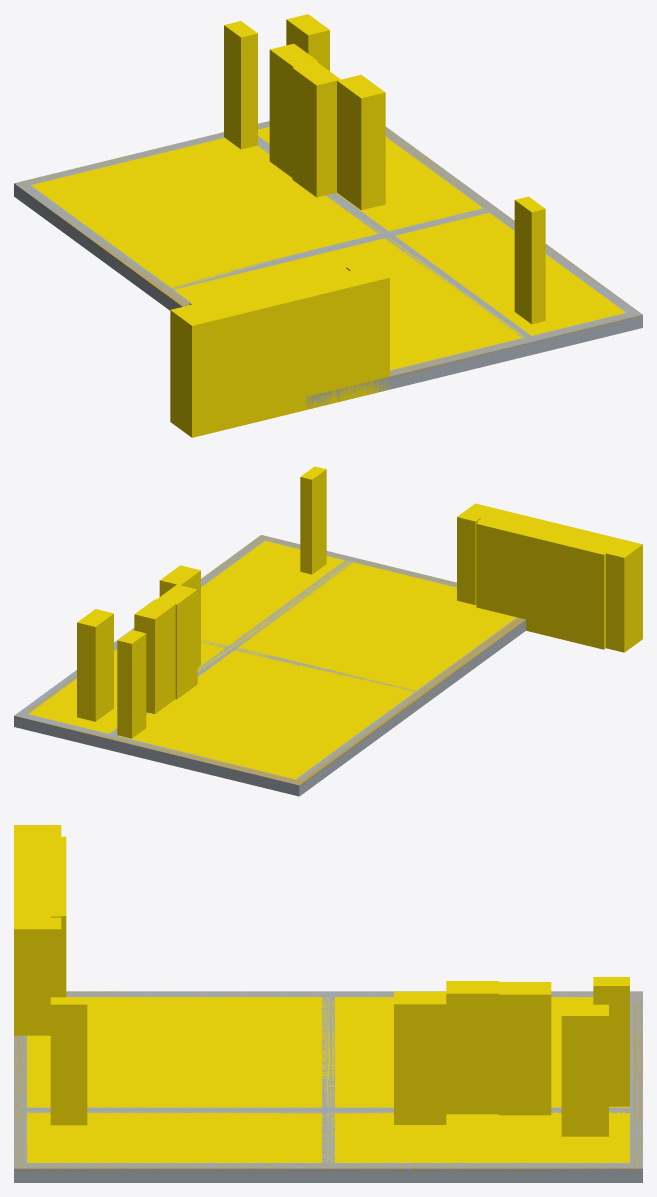
File: bảng hiệu xinhan bạt 2 mặt 80 x 120.obj
The picture shows the model from 3 angles, top to bottom: view 1: azimuth 30°, elevation 25°; view 2: azimuth 150°, elevation 25°; view 3: azimuth 270°, elevation 25°; orthographic projection. The views are drawn at different scales.
Visible parts, largest first — view 1: bang_hieu_xinhan_bat_2_mat_80_x_120; view 2: bang_hieu_xinhan_bat_2_mat_80_x_120; view 3: bang_hieu_xinhan_bat_2_mat_80_x_120.
Part boxes in pixels (x1=…): bang_hieu_xinhan_bat_2_mat_80_x_120: x1=14, y1=14, x2=642, y2=437; bang_hieu_xinhan_bat_2_mat_80_x_120: x1=14, y1=466, x2=642, y2=796; bang_hieu_xinhan_bat_2_mat_80_x_120: x1=14, y1=825, x2=642, y2=1182.
Bounding box in the file's own units: 1.07 × 0.286 × 1.2.
